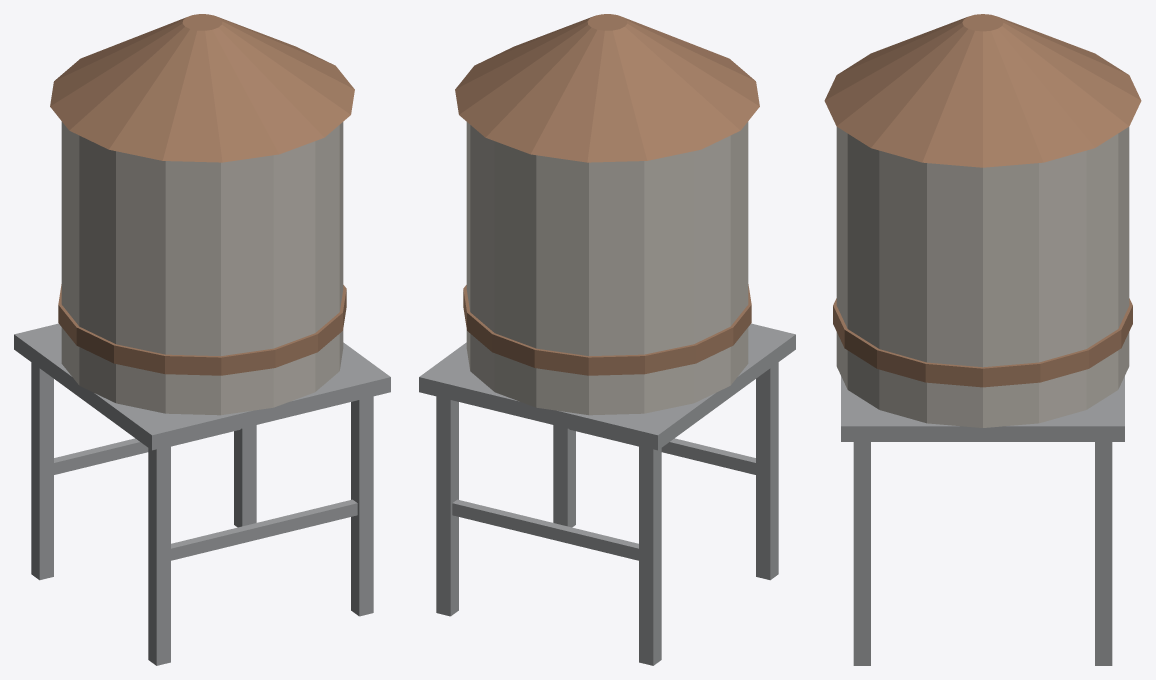
The model's file is roof_tank.glb.
3 views of the same model, side by side, from view 1: azimuth 30°, elevation 25°; view 2: azimuth 150°, elevation 25°; view 3: azimuth 270°, elevation 25° (orthographic). The views are drawn at different scales.
Visible parts, largest first — view 1: roof_tank; view 2: roof_tank; view 3: roof_tank.
Part boxes in pixels (x1=…): roof_tank: x1=14, y1=14, x2=390, y2=665; roof_tank: x1=419, y1=14, x2=795, y2=665; roof_tank: x1=824, y1=14, x2=1141, y2=665.
Bounding box in the file's own units: 1.84 × 3.77 × 1.84.
